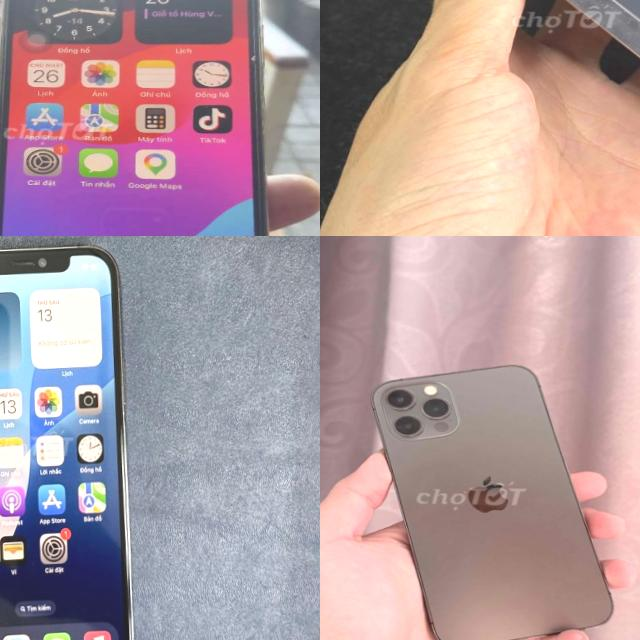gen_12_13: (367, 356, 619, 640), (0, 237, 144, 640)
gen_14: (320, 0, 640, 172)
gen_x_xs: (0, 0, 267, 236)
